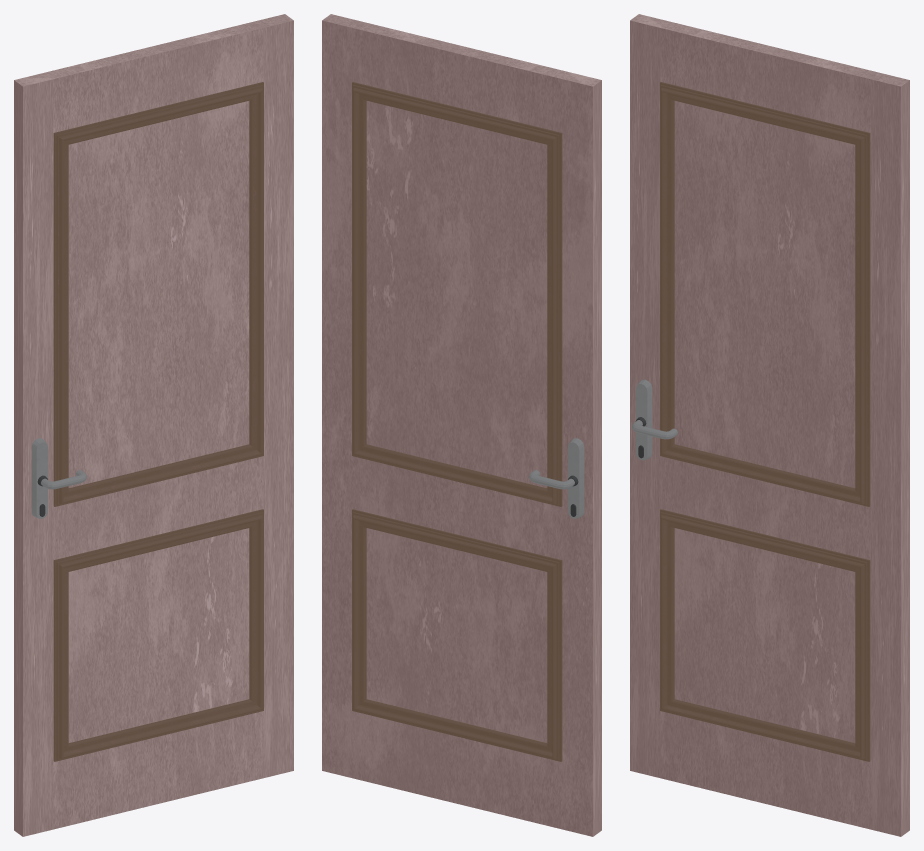
File: door_2.glb
3 views of the same model, side by side, from view 1: azimuth 30°, elevation 25°; view 2: azimuth 150°, elevation 25°; view 3: azimuth 330°, elevation 25° (orthographic).
Parts seen in each view (by area): view 1: Layer:1 body, Layer:1 decor, Layer:2 bulan; view 2: Layer:1 body, Layer:1 decor, Layer:2 bulan; view 3: Layer:1 body, Layer:1 decor, Layer:2 bulan.
Boxes of the visible parts, x1=… form: Layer:1 body: x1=14, y1=14, x2=293, y2=836; Layer:1 decor: x1=53, y1=82, x2=263, y2=761; Layer:2 bulan: x1=31, y1=438, x2=47, y2=518; Layer:1 body: x1=322, y1=14, x2=601, y2=836; Layer:1 decor: x1=352, y1=82, x2=562, y2=761; Layer:2 bulan: x1=568, y1=438, x2=584, y2=518; Layer:1 body: x1=630, y1=14, x2=909, y2=836; Layer:1 decor: x1=660, y1=82, x2=870, y2=761; Layer:2 bulan: x1=636, y1=379, x2=652, y2=460.
Size of the model in its own units: 0.79 by 2.09 by 0.185.
Materials: 4 (4 with a texture image).
